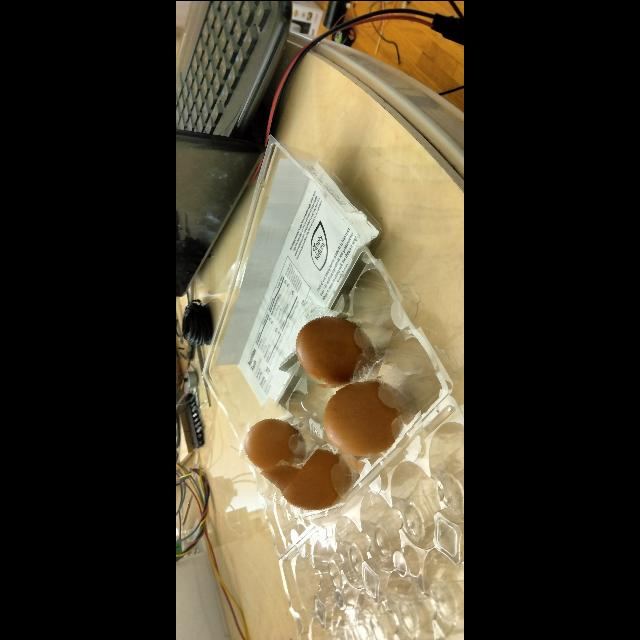Egg: (284, 305, 388, 393), (318, 376, 424, 460), (270, 434, 360, 524), (236, 403, 318, 483)
